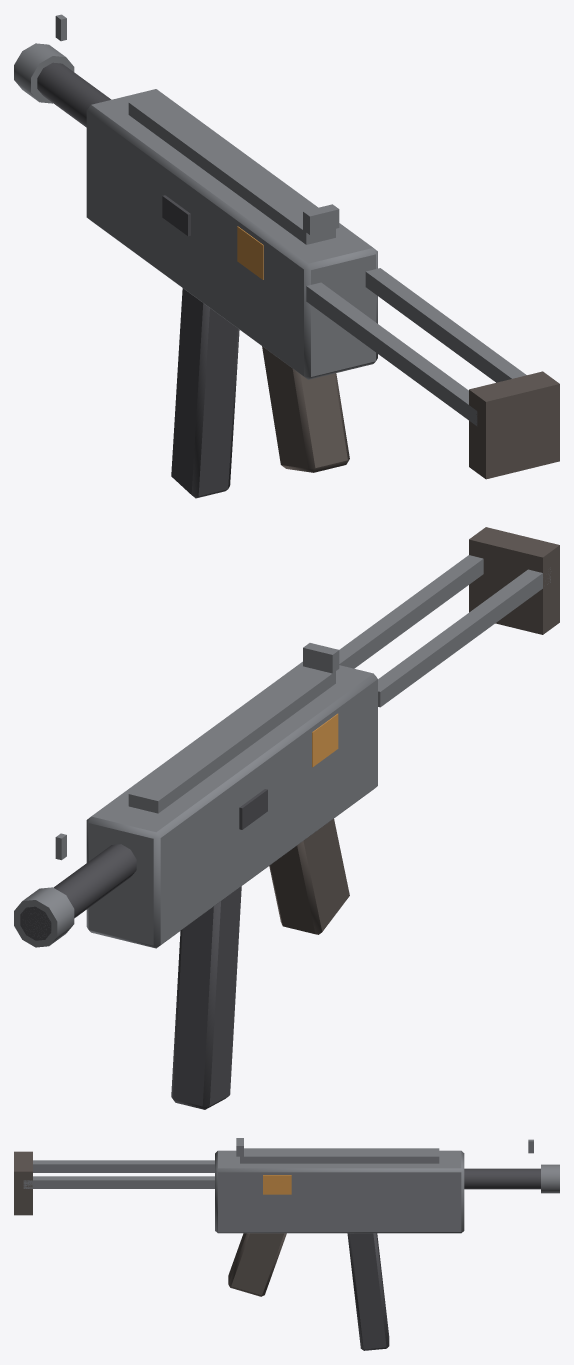
The model's file is reed.glb.
The picture shows the model from 3 angles, top to bottom: view 1: azimuth 30°, elevation 25°; view 2: azimuth 150°, elevation 25°; view 3: azimuth 270°, elevation 25°; orthographic projection. The views are drawn at different scales.
Visible parts, largest first — view 1: wpn_reed; view 2: wpn_reed; view 3: wpn_reed.
Boxes of the visible parts, left/top/right/bottom form: wpn_reed: left=14, top=14, right=559, bottom=498; wpn_reed: left=14, top=527, right=559, bottom=1109; wpn_reed: left=14, top=1138, right=559, bottom=1350.
Size of what is drawn, in the model's own units: 0.0525 by 0.2379 by 0.57.
